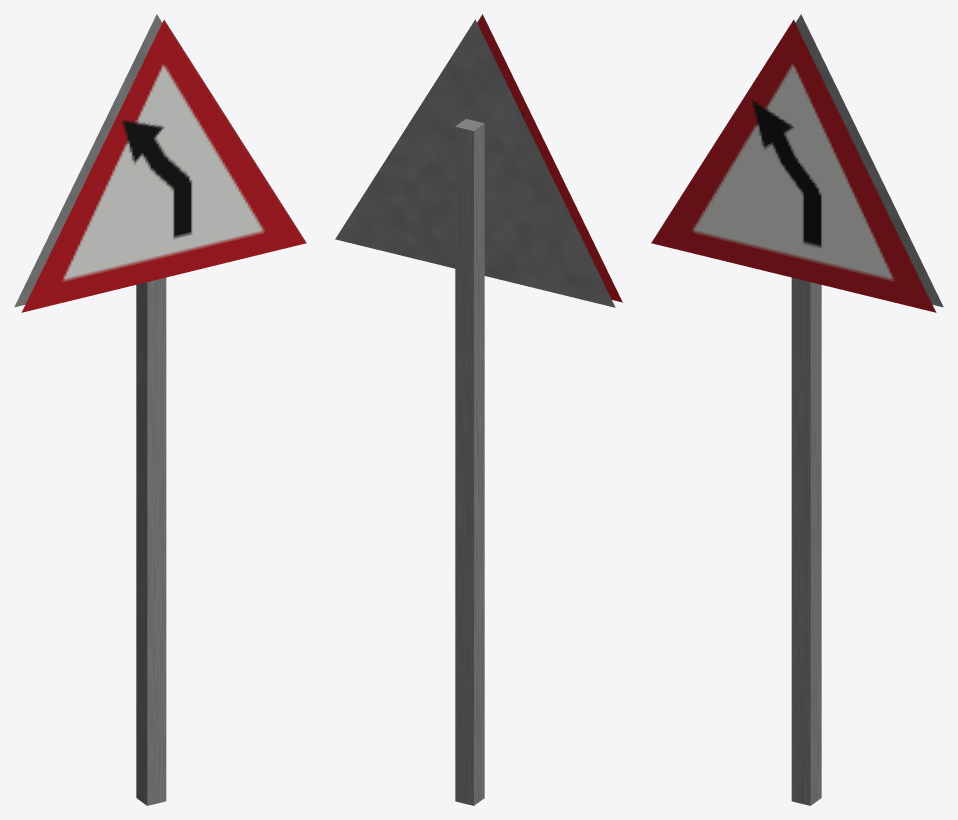
Rendered from SM_sign_curve_l.fbx.
3 views of the same model, side by side, from view 1: azimuth 30°, elevation 25°; view 2: azimuth 150°, elevation 25°; view 3: azimuth 330°, elevation 25° (orthographic).
Visible parts, largest first — view 1: SM_sign_curve_l; view 2: SM_sign_curve_l; view 3: SM_sign_curve_l.
Part boxes in pixels (box(x1,y1,x2,y2)): SM_sign_curve_l: box(14, 14, 306, 805); SM_sign_curve_l: box(335, 14, 622, 805); SM_sign_curve_l: box(651, 14, 943, 805).
Size of the model in its own units: 0.9 by 2.38 by 0.1.
